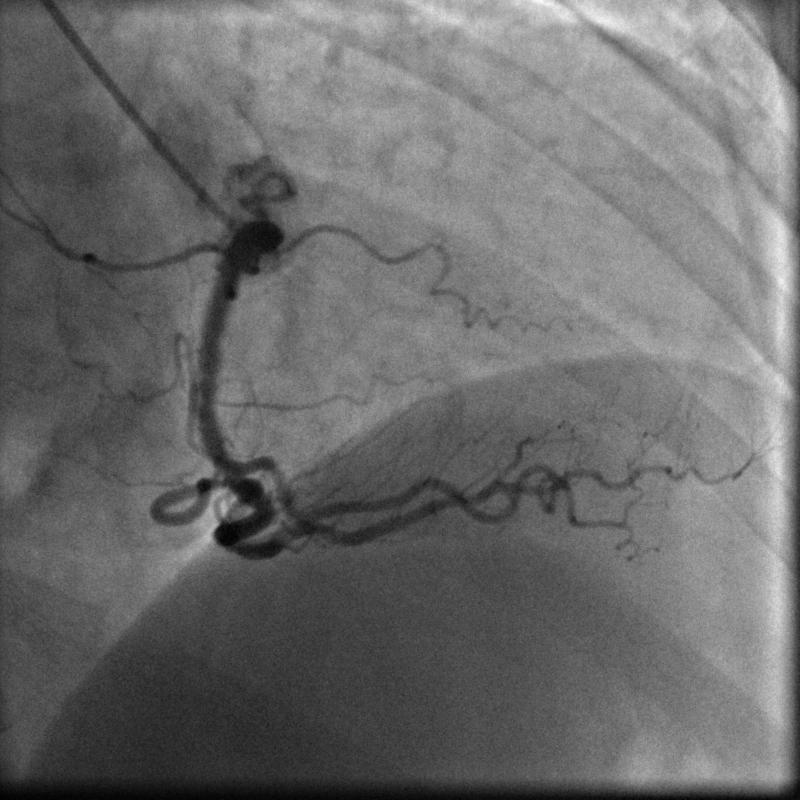Stenosis: (194, 447, 253, 481)
